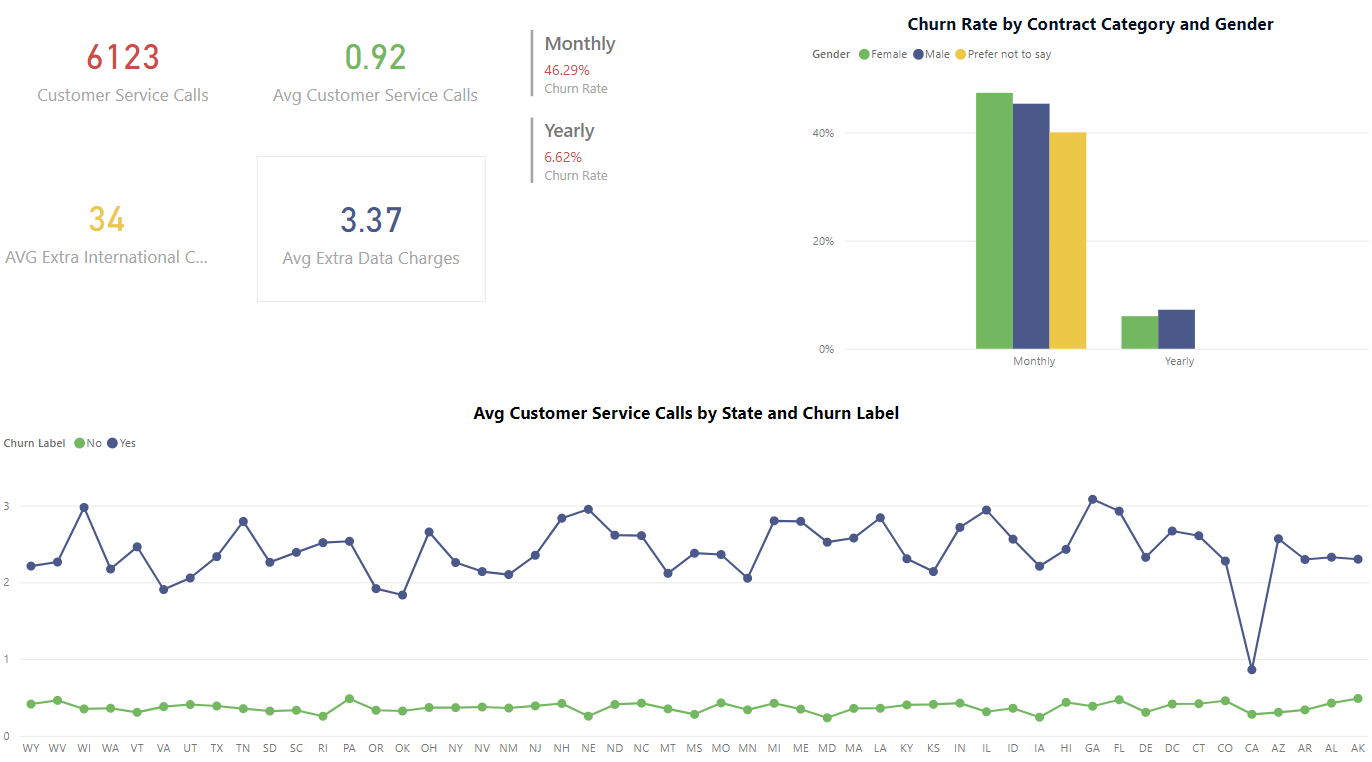

The page's visual inventory and layout, read from the dashboard file:
{"tool":"powerbi","page":{"name":"insights","canvas":[1280,720],"ordinal":2},"visuals":[{"type":"card","fields":{"Values":["Sum(Databel - Data.Customer Service Calls)"]},"box":[9.3,0,213.9,139.5],"z":0},{"type":"card","fields":{"Values":["Databel - Data.AVG Extra International Charges"]},"box":[0,160.4,202.3,119.7],"z":1000},{"type":"card","fields":{"Values":["Databel - Data.Avg Extra Data Charges"]},"box":[240.7,153.5,212.8,136],"z":2000},{"type":"card","fields":{"Values":["Databel - Data.Avg Customer Service Calls"]},"box":[240.7,0,220.9,139.5],"z":3000},{"type":"lineChart","fields":{"Y":["Databel - Data.Avg Customer Service Calls"],"Series":["Databel - Data.Churn Label"],"Category":["Databel - Data.State"]},"box":[0,380,1280,340.2],"z":4000},{"type":"clusteredColumnChart","fields":{"Category":["Databel - Data.Contract Category"],"Y":["Databel - Data.Churn Rate"],"Series":["Databel - Data.Gender"]},"box":[752.2,18.6,527.8,341.8],"z":4001},{"type":"multiRowCard","fields":{"Values":["Databel - Data.Contract Category","Databel - Data.Churn Rate"]},"box":[490.6,31.4,163.9,258.1],"z":4002}]}

Visuals, with their boxes in screenshot pixels (x1, y1, x2, y2), scaled from the page's 1280x720 canvas onto the 1372x762 screenshot:
card - Sum(Databel - Data.Customer Service Calls): 10 0 239 148
card - Databel - Data.AVG Extra International Charges: 0 170 217 296
card - Databel - Data.Avg Extra Data Charges: 258 162 486 306
card - Databel - Data.Avg Customer Service Calls: 258 0 495 148
lineChart - Databel - Data.Avg Customer Service Calls x Databel - Data.Churn Label: 0 402 1371 761
clusteredColumnChart - Databel - Data.Contract Category x Databel - Data.Churn Rate: 806 20 1371 381
multiRowCard - Databel - Data.Contract Category x Databel - Data.Churn Rate: 526 33 702 306
